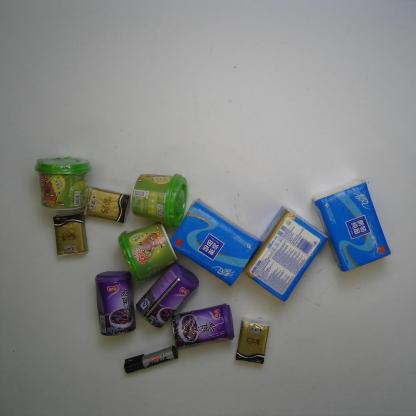Canned Food: (132, 258, 200, 332), (169, 300, 238, 354), (93, 268, 137, 336)
Instant Drink: (27, 147, 99, 214), (112, 216, 178, 282), (124, 166, 192, 228)
Stationery: (120, 342, 179, 377)
Tissue: (167, 196, 264, 287), (244, 205, 331, 304), (310, 182, 393, 276), (230, 314, 272, 366), (50, 210, 90, 259), (81, 186, 133, 223)
